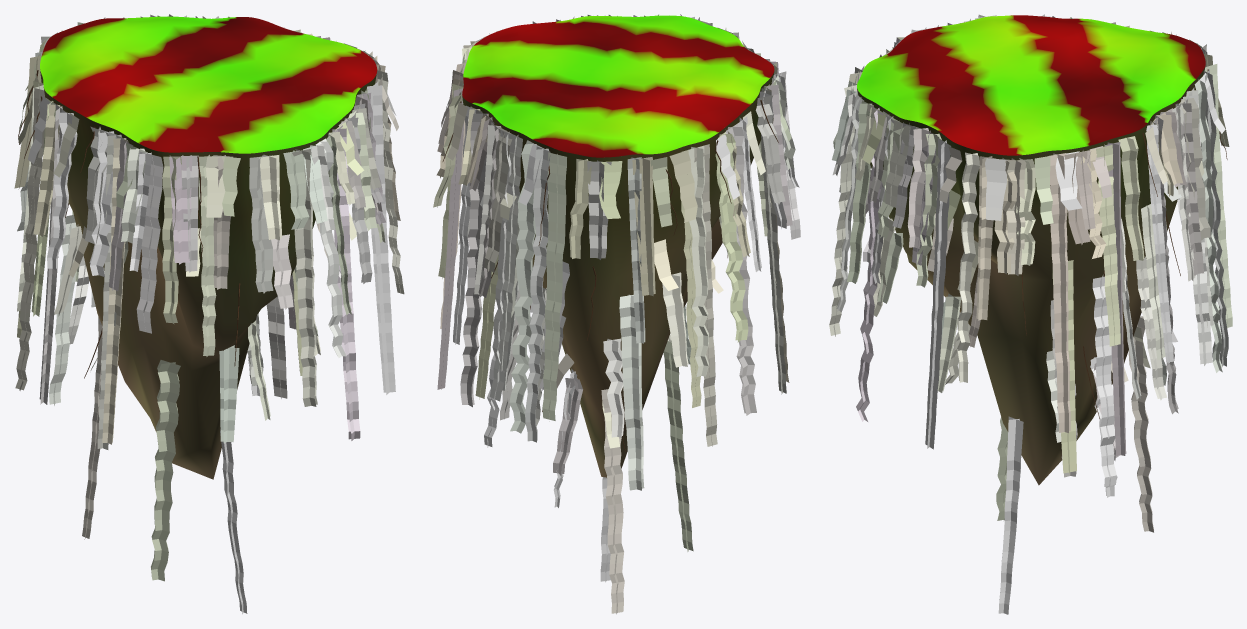
File: SM_H04_Floater05.fbx
3 renders of one model, left to right at view 1: azimuth 30°, elevation 25°; view 2: azimuth 150°, elevation 25°; view 3: azimuth 270°, elevation 25°, orthographic. The views are drawn at different scales.
Visible parts, largest first — view 1: SM_H04_Floater05_Ivy, SM_H04_Floater05; view 2: SM_H04_Floater05_Ivy, SM_H04_Floater05; view 3: SM_H04_Floater05_Ivy, SM_H04_Floater05.
Boxes of the visible parts, <box> form: SM_H04_Floater05_Ivy: <box>14,14,404,614</box>; SM_H04_Floater05: <box>40,16,377,479</box>; SM_H04_Floater05_Ivy: <box>433,14,800,614</box>; SM_H04_Floater05: <box>462,15,774,477</box>; SM_H04_Floater05_Ivy: <box>829,14,1232,614</box>; SM_H04_Floater05: <box>857,15,1205,485</box>.
Bounding box in the file's own units: 32.45 × 50.34 × 34.69.
